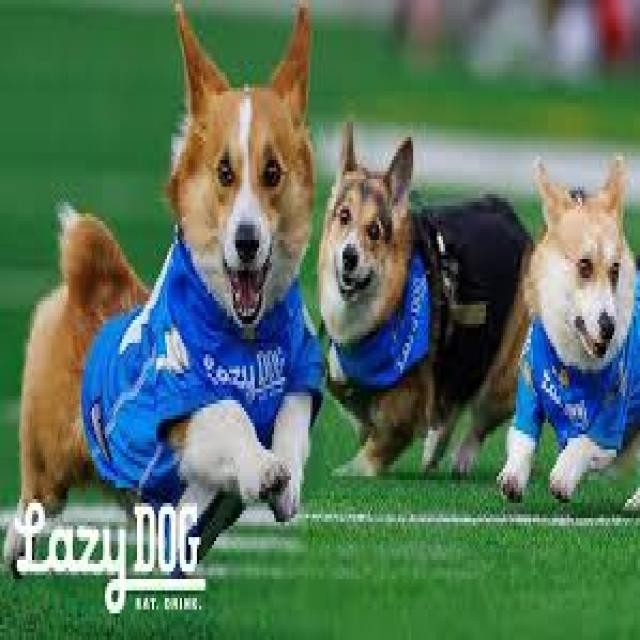CORGI: (0, 0, 327, 564), (300, 123, 542, 494), (512, 161, 640, 531)
